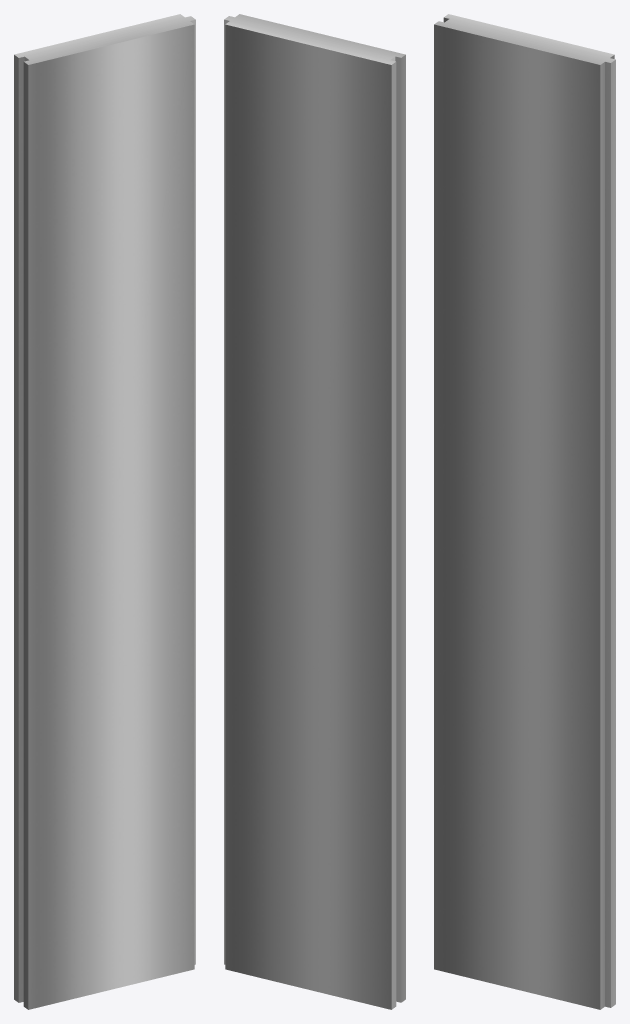
File: Porte_Ascenseur.FBX
3 renders of one model, left to right at view 1: azimuth 30°, elevation 25°; view 2: azimuth 150°, elevation 25°; view 3: azimuth 330°, elevation 25°, orthographic.
Visible parts, largest first — view 1: Porte_Auto; view 2: Porte_Auto; view 3: Porte_Auto.
Boxes of the visible parts, bbox=[...] form: Porte_Auto: bbox=[14, 14, 195, 1009]; Porte_Auto: bbox=[224, 14, 405, 1009]; Porte_Auto: bbox=[434, 14, 615, 1009].
Bounding box in the file's own units: 36.24 × 190 × 5.22.
Materials: 1 (1 with a texture image).
